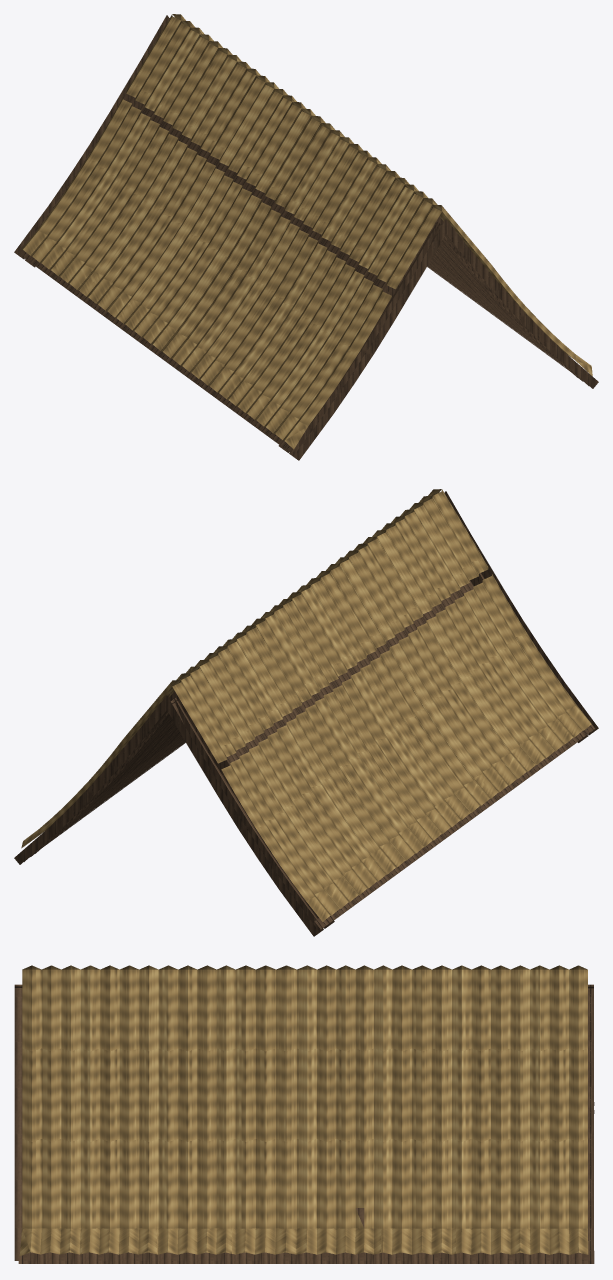
Rendered from Roof_Thatch_8x14.gltf.
The picture shows the model from 3 angles, top to bottom: view 1: azimuth 30°, elevation 25°; view 2: azimuth 150°, elevation 25°; view 3: azimuth 270°, elevation 25°; orthographic projection. The views are drawn at different scales.
Visible parts, largest first — view 1: Roof_Thatch_8x14; view 2: Roof_Thatch_8x14; view 3: Roof_Thatch_8x14.
Part boxes in pixels (x1=…): Roof_Thatch_8x14: x1=14, y1=14, x2=598, y2=460; Roof_Thatch_8x14: x1=14, y1=489, x2=598, y2=936; Roof_Thatch_8x14: x1=14, y1=965, x2=594, y2=1263.
Bounding box in the file's own units: 9.95 × 6.58 × 15.66.
Materials: 2 (2 with a texture image).
